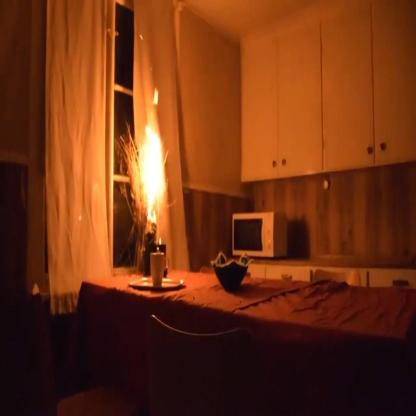fire: (135, 119, 171, 227)
